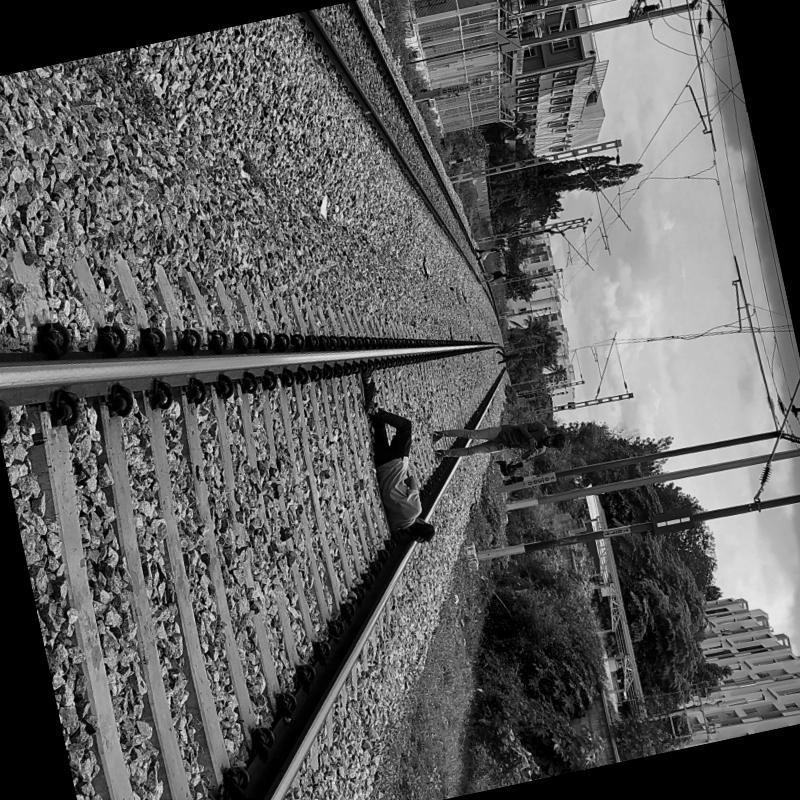sleeping: (342, 362, 443, 564)
